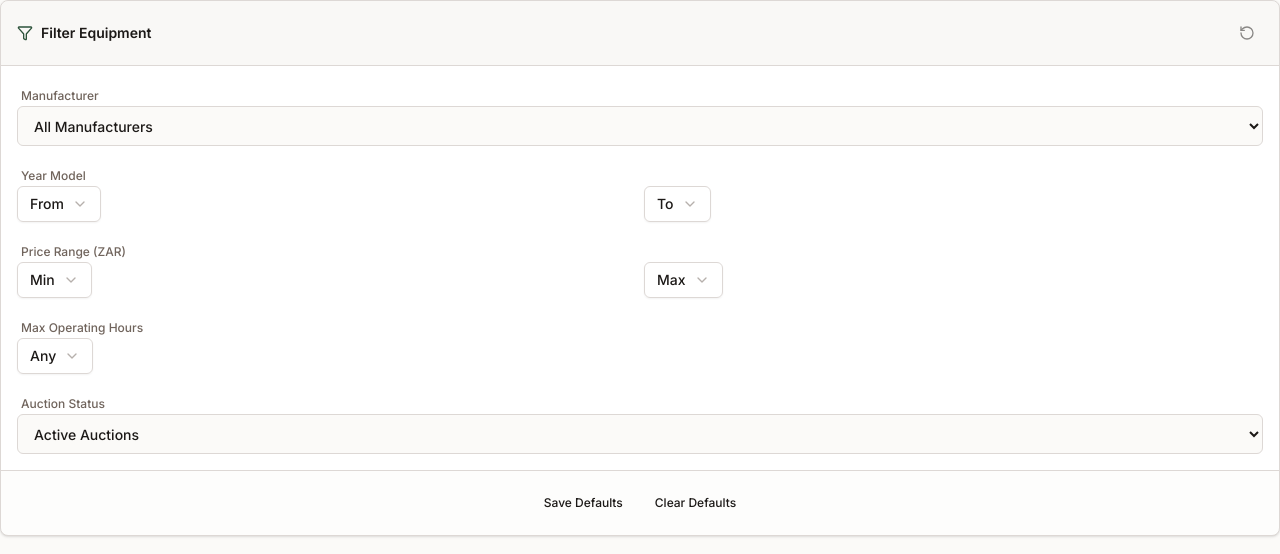
Test case: FilterSidebar › authenticated session › disables defaults buttons and shows pending labels while saving
Step 1. Click the button "Save Defaults" → x=583, y=503, box [536,487,631,519]
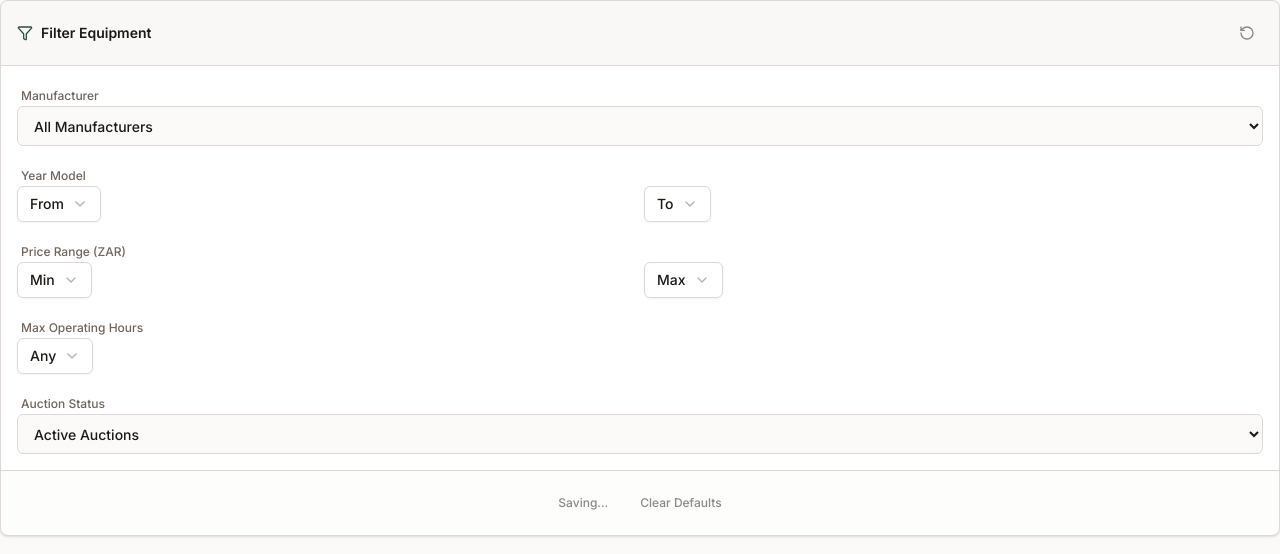
Expected: the button "Saving..." is disabled, [550,487,616,519]
Expected: the button "Clear Defaults" is disabled, [632,487,730,519]
